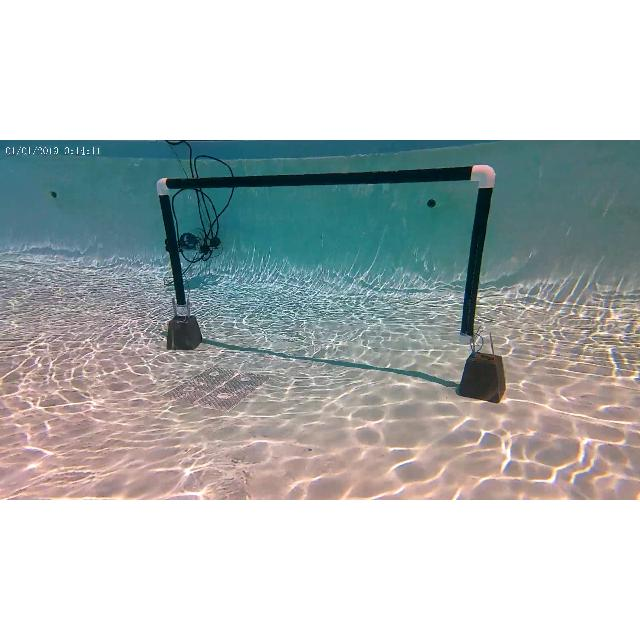prequal gate: (157, 164, 496, 346)
prequal gate leg l: (157, 172, 189, 308)
prequal gate leg r: (460, 164, 496, 338)
